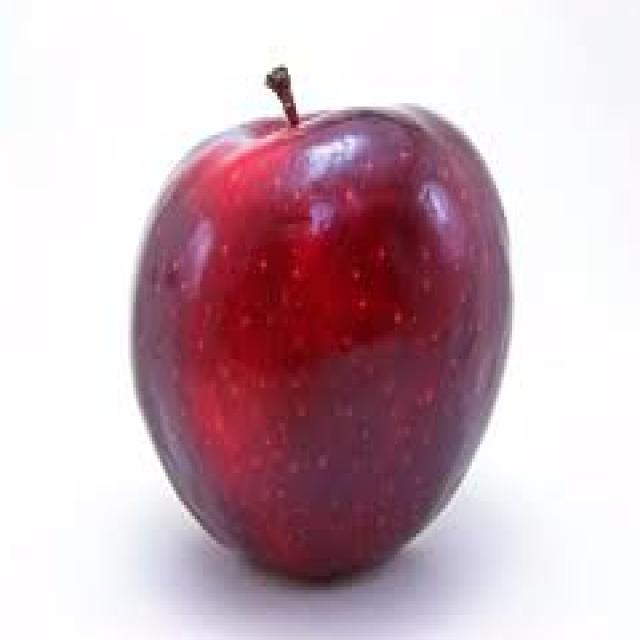apple: (131, 36, 538, 618)
